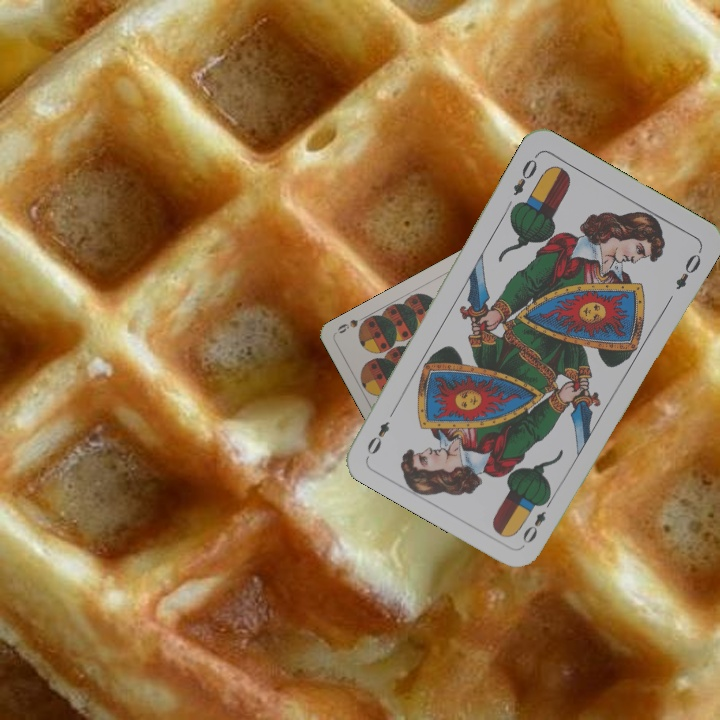EO: (518, 492, 556, 547), (509, 150, 541, 199)
